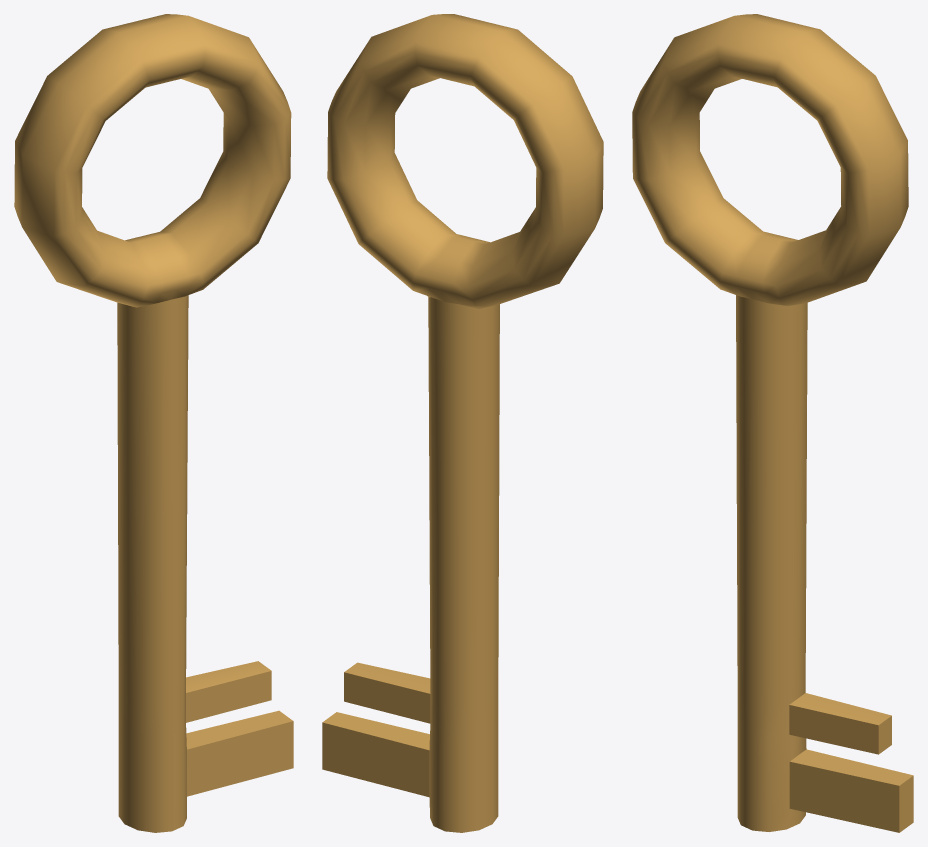
File: Key_Text.fbx
The picture shows the model from 3 angles, left to right: view 1: azimuth 30°, elevation 25°; view 2: azimuth 150°, elevation 25°; view 3: azimuth 330°, elevation 25°; orthographic projection.
Visible parts, largest first — view 1: Key; view 2: Key; view 3: Key.
Boxes of the visible parts, <box> form: Key: <box>14,14,293,832</box>; Key: <box>322,14,603,832</box>; Key: <box>632,14,913,832</box>.
Bounding box in the file's own units: 43.11 × 123 × 13.26.
Materials: 1 (1 with a texture image).
